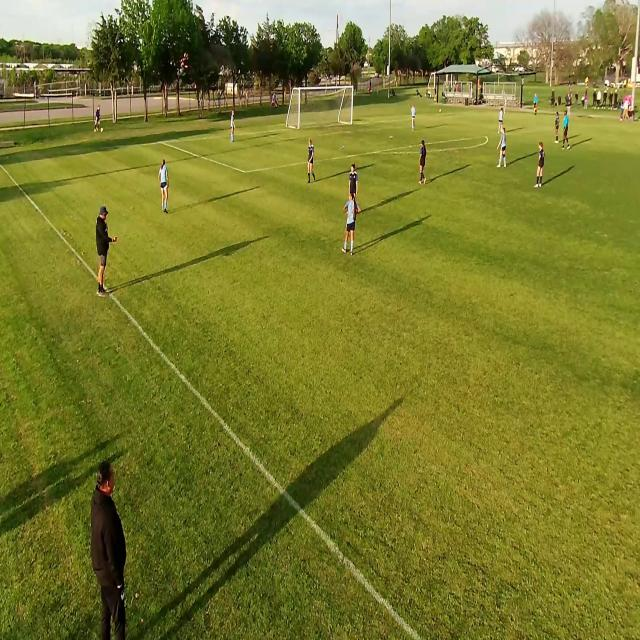ball: (100, 127, 104, 133)
team1: (348, 164, 359, 212), (418, 138, 428, 186), (537, 141, 547, 188), (307, 138, 317, 184), (556, 109, 562, 144)
team2: (344, 193, 358, 256), (496, 126, 509, 171), (160, 158, 170, 210), (410, 104, 418, 134), (230, 113, 236, 146), (499, 106, 505, 136)
